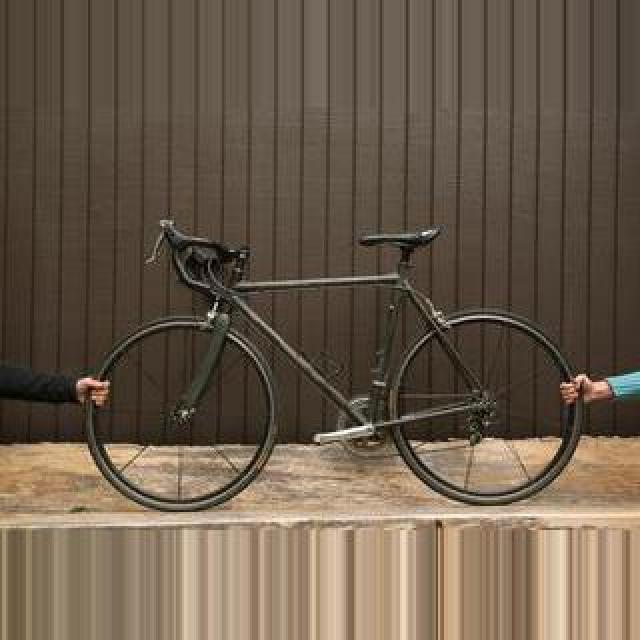Person: (72, 212, 608, 516)
